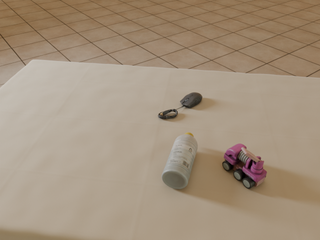bottle: (162, 133, 197, 189)
mouse: (180, 92, 202, 108)
toy_car: (223, 144, 267, 189)
